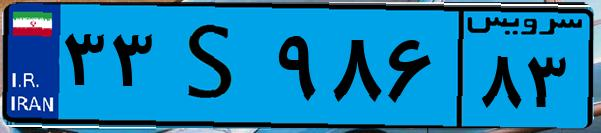3: (57, 26, 110, 100), (525, 38, 570, 115), (110, 28, 158, 98)
6: (385, 28, 445, 110)
8: (330, 28, 385, 110), (475, 38, 525, 113)
9: (270, 28, 330, 110)
S: (158, 12, 270, 120)
